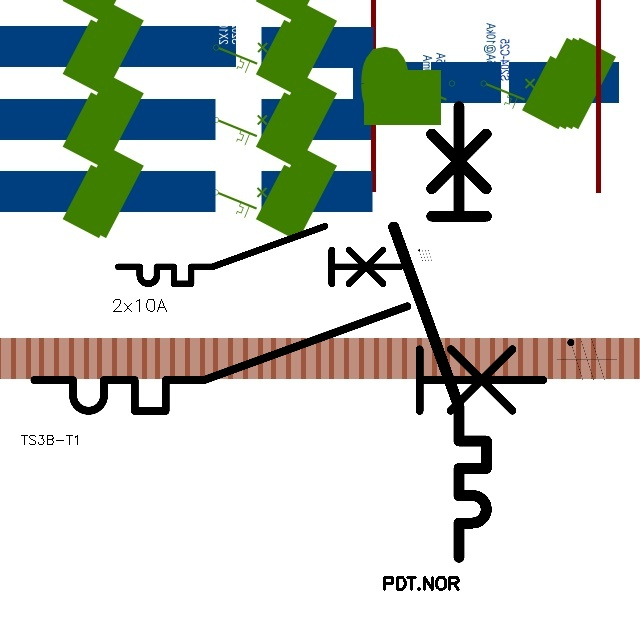interruptor_termomagnetico: (21, 293, 556, 424), (382, 95, 498, 569), (111, 219, 407, 291)
